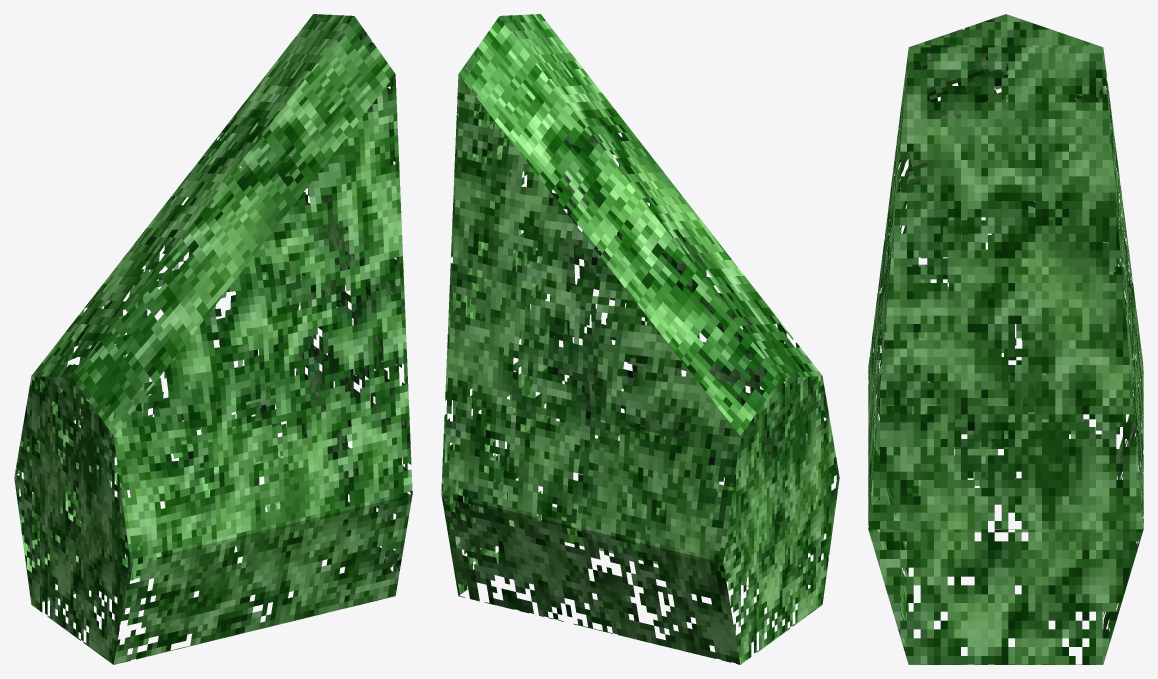
The model's file is bush_connector_straight_half_spring.glb.
3 renders of one model, left to right at view 1: azimuth 30°, elevation 25°; view 2: azimuth 150°, elevation 25°; view 3: azimuth 270°, elevation 25°, orthographic. The views are drawn at different scales.
Parts seen in each view (by area): view 1: bush_connector_straight_half_spring; view 2: bush_connector_straight_half_spring; view 3: bush_connector_straight_half_spring.
Part boxes in pixels (x1,y1,x2,y2): bush_connector_straight_half_spring: (14,14,412,664); bush_connector_straight_half_spring: (441,14,839,664); bush_connector_straight_half_spring: (868,14,1143,664).
Size of the model in its own units: 1.01 by 1.88 by 0.7191.
1 material, 1 textured.
